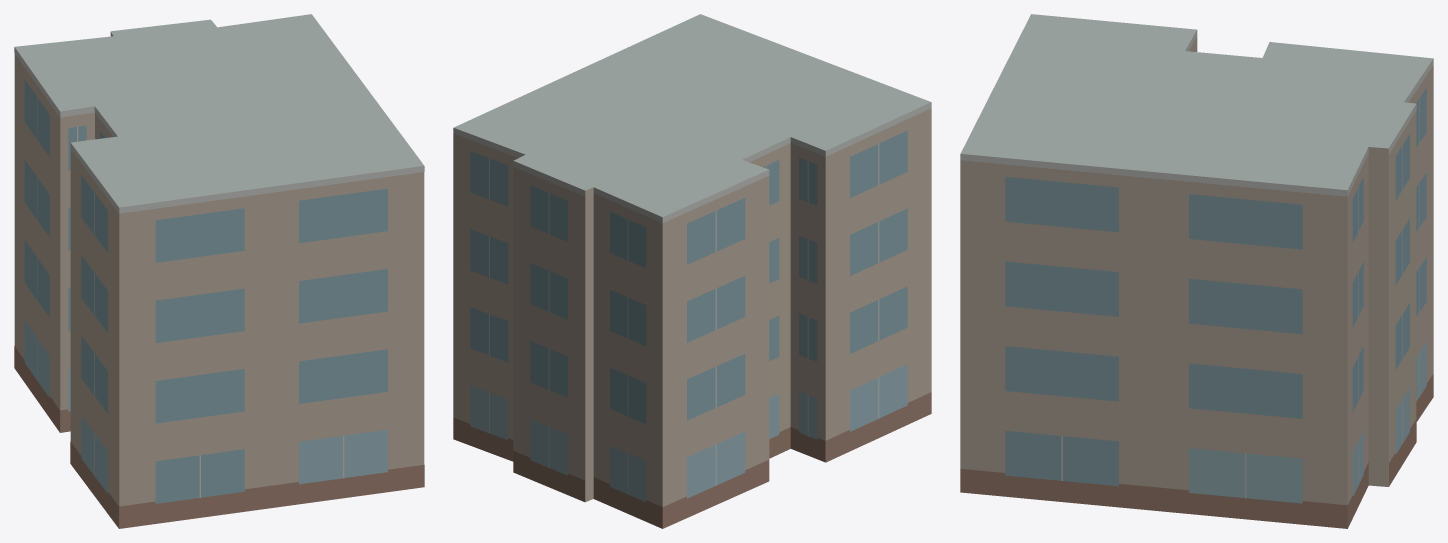
Rendered from survey-upis-32705790.glb.
The picture shows the model from 3 angles, left to right: view 1: azimuth 30°, elevation 25°; view 2: azimuth 150°, elevation 25°; view 3: azimuth 270°, elevation 25°; orthographic projection. The views are drawn at different scales.
Visible parts, largest first — view 1: survey-upis-32705790.tmp; view 2: survey-upis-32705790.tmp; view 3: survey-upis-32705790.tmp.
Boxes of the visible parts, box(x1,y1,x2,y2) form: survey-upis-32705790.tmp: box(14, 14, 424, 528); survey-upis-32705790.tmp: box(453, 14, 931, 528); survey-upis-32705790.tmp: box(960, 14, 1433, 528).
Size of the model in its own units: 14.3 by 12.8 by 16.22.
